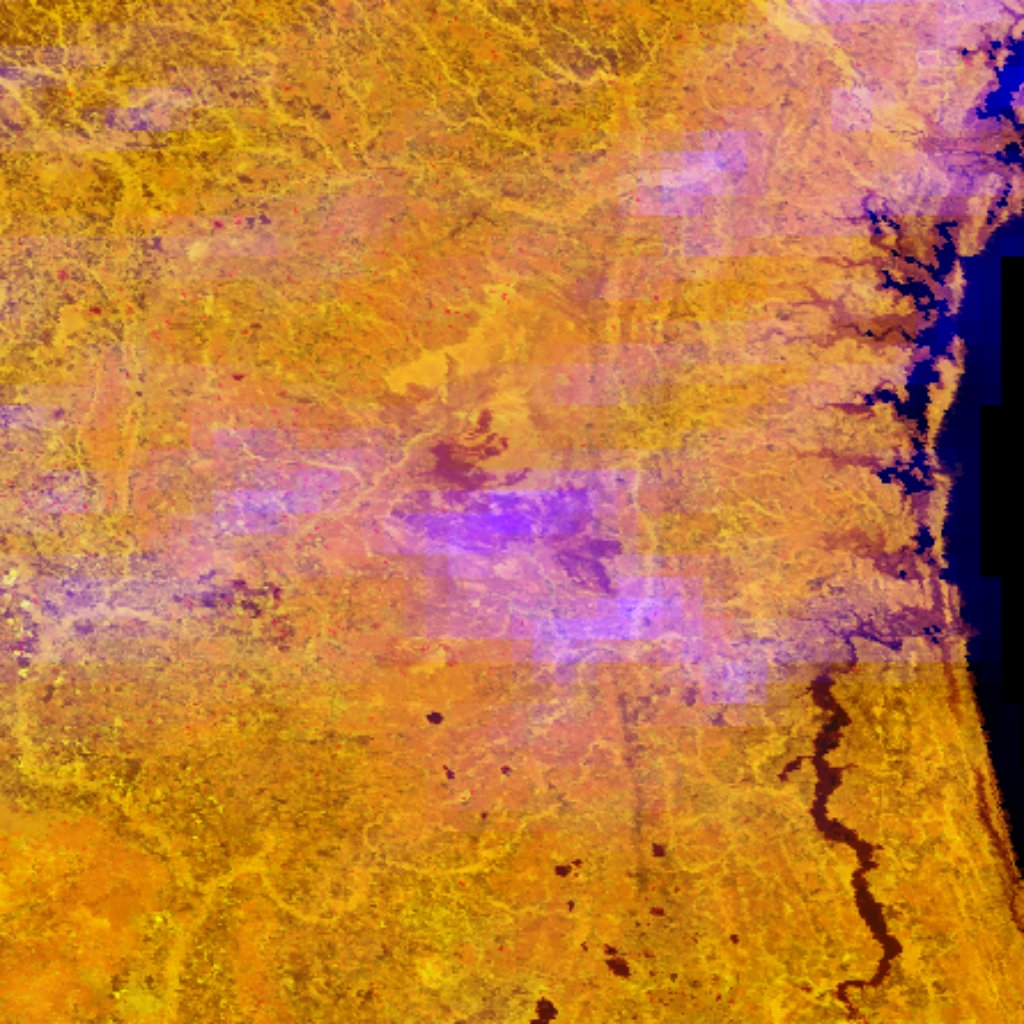fire: (0, 0, 1024, 1024), (1011, 83, 1024, 124), (919, 296, 930, 305)
